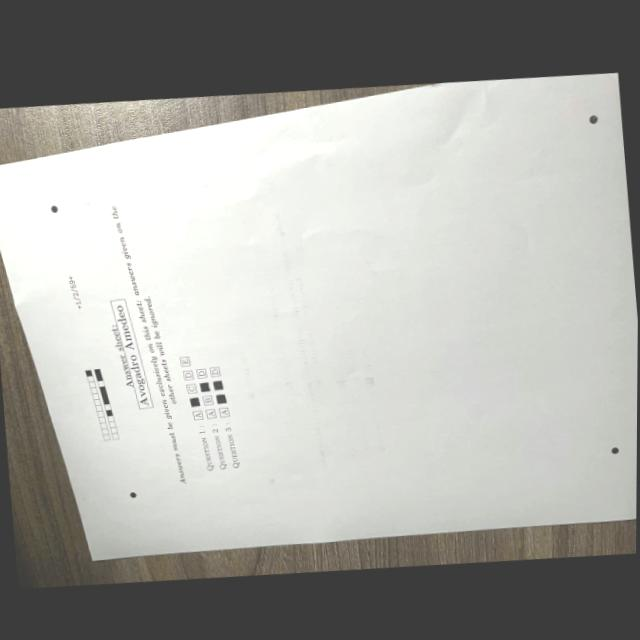Markers: (588, 114, 598, 124), (49, 204, 58, 213), (610, 445, 619, 453), (129, 490, 136, 497)
